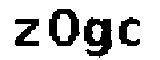0: (46, 4, 81, 51)
c: (119, 16, 143, 52)
g: (82, 16, 116, 58)
z: (11, 15, 43, 50)
